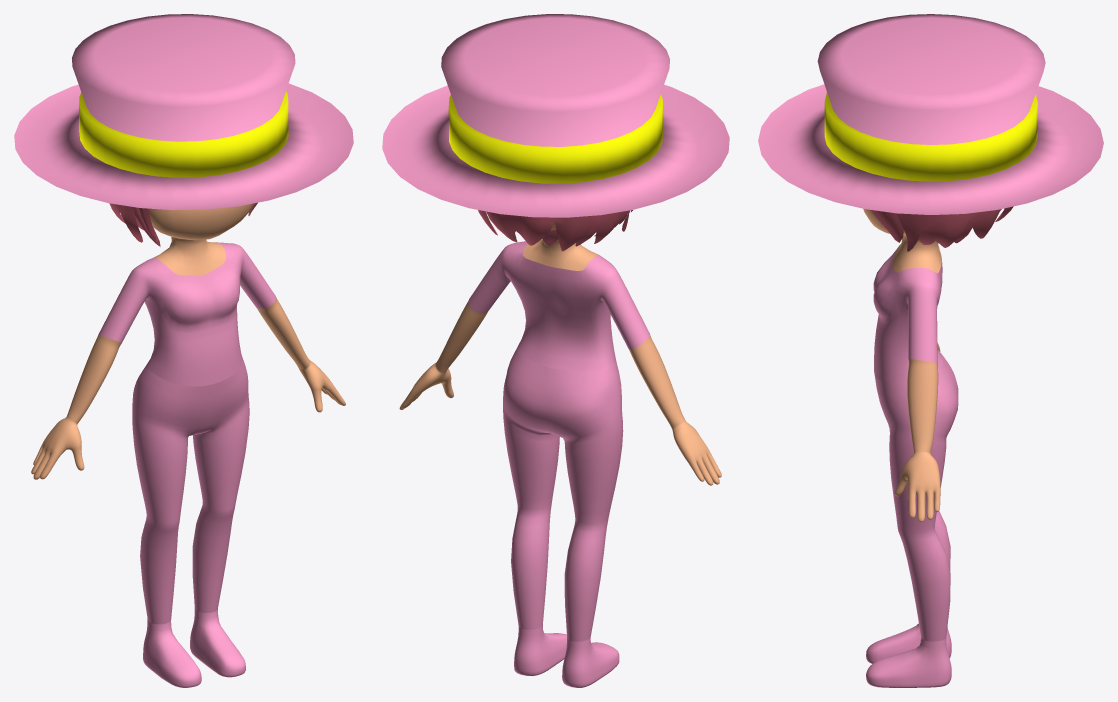
Rendered from girl.fbx.
The picture shows the model from 3 angles, left to right: view 1: azimuth 30°, elevation 25°; view 2: azimuth 150°, elevation 25°; view 3: azimuth 270°, elevation 25°; orthographic projection. The views are drawn at different scales.
Visible parts, largest first — view 1: Hat, Bottom, Top, Body, Shoes, Hair; view 2: Hat, Bottom, Top, Body, Shoes, Hair; view 3: Hat, Bottom, Top, Body, Shoes, Hair.
Boxes of the visible parts, x1,y1,x2,y2 form: Hat: (14, 14, 353, 210); Bottom: (132, 356, 249, 624); Top: (98, 242, 275, 386); Body: (31, 203, 345, 479); Shoes: (143, 608, 245, 687); Hair: (109, 202, 257, 246); Hat: (382, 14, 729, 217); Bottom: (503, 348, 623, 641); Top: (468, 241, 649, 371); Body: (399, 220, 721, 485); Shoes: (514, 625, 619, 687); Hair: (478, 210, 632, 251); Hat: (758, 14, 1103, 214); Bottom: (874, 350, 958, 641); Top: (873, 243, 942, 381); Body: (863, 209, 941, 522); Shoes: (866, 623, 951, 687); Hair: (870, 206, 1013, 251).
Size of the model in its own units: 83.49 by 156 by 79.51.
